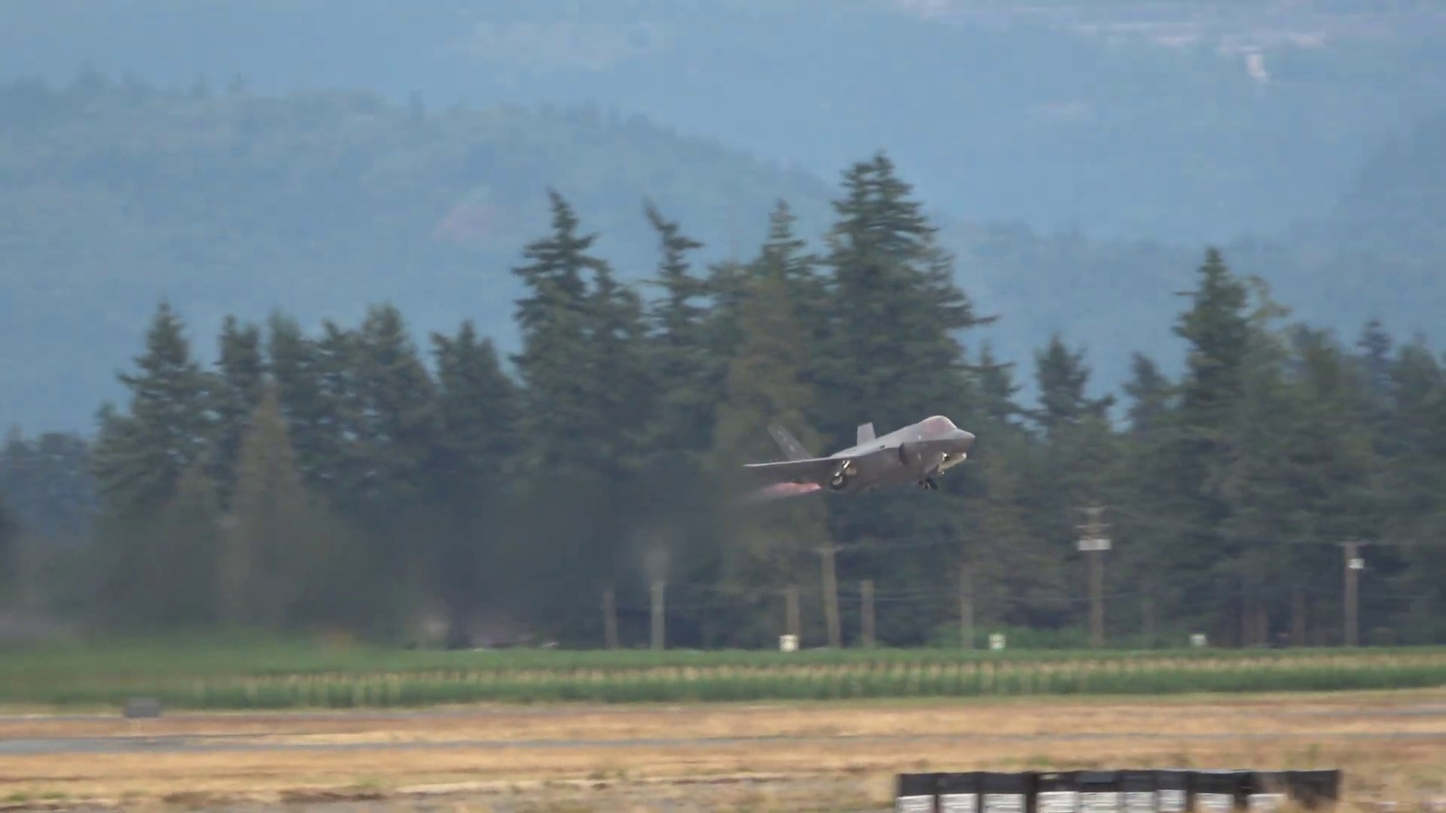F35: (740, 407, 979, 495)
